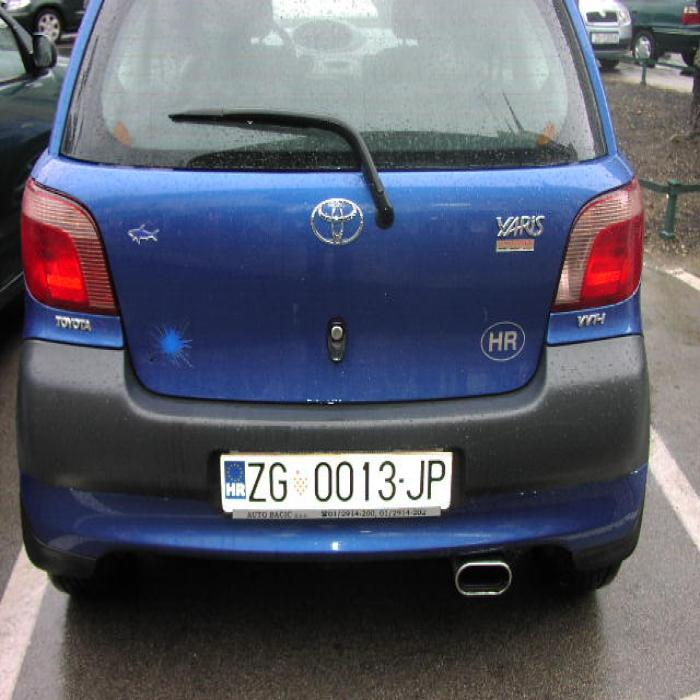number_plate: (220, 454, 448, 506)
